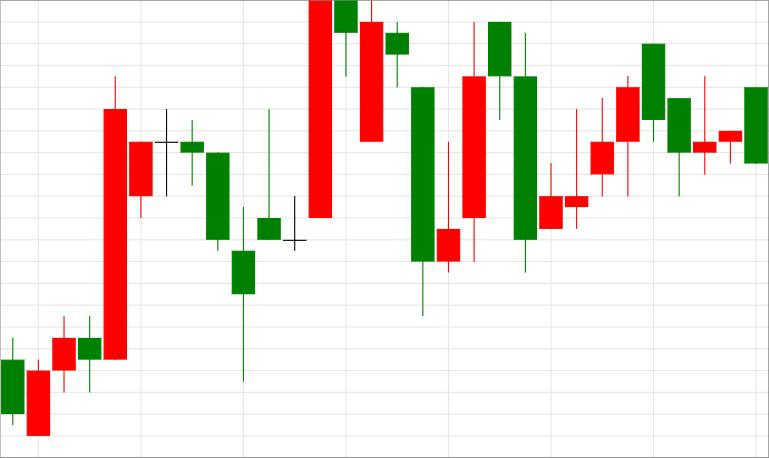hanging_man_fall: (232, 0, 358, 381)
inverse_hammer_rise: (335, 0, 459, 316)
